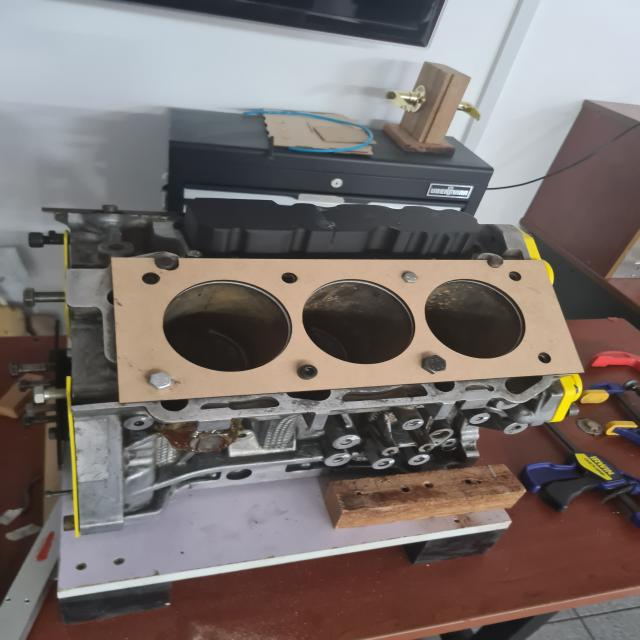vista1: (112, 258, 583, 402)
